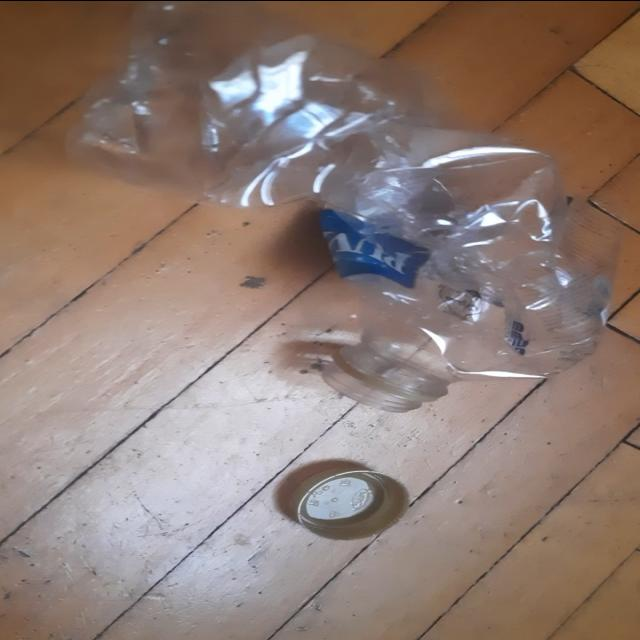Plastic: (65, 3, 611, 410)
